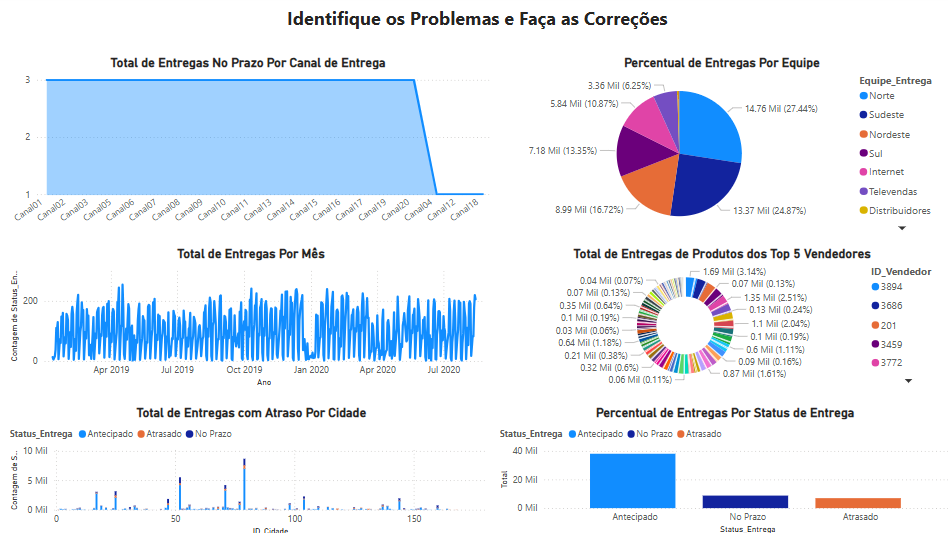

This screenshot's page, from the dashboard's own definition file:
{"tool":"powerbi","page":{"name":"Página 1","canvas":[1280,720],"ordinal":0},"visuals":[{"type":"areaChart","title":"Total de Entregas por Canal de Entrega","fields":{"Category":["Logistica.Canal_Entrega"],"Y":["Medidas.TotalEntregas"]},"box":[12.4,227.1,495.5,256],"z":0},{"type":"clusteredBarChart","title":"Percentual de Entregas por Equipes","fields":{"Category":["Logistica.Equipe_Entrega"],"Y":["Medidas.TotalEntregas"]},"box":[518.9,90.8,456.9,392.3],"z":1000},{"type":"lineChart","title":"Total de Entregas por Mês","fields":{"Category":["Logistica.Data_Pedido.Variation.Hierarquia de datas.Mês"],"Y":["Medidas.TotalEntregas"]},"box":[12.4,492.7,494.1,212],"z":2000},{"type":"tableEx","fields":{"Values":["Logistica.ID_Vendedor","Medidas.TotalEntregas","Medidas.Classificação por estrelas TotalEntregas"]},"box":[985.5,103.2,290.4,165.2],"z":3000},{"type":"tableEx","fields":{"Values":["Logistica.ID_Cidade","Medidas.TotalEntregas"]},"box":[985.5,280.8,290.4,423.9],"z":4000},{"type":"columnChart","title":"Percentual de Entregas por Status","fields":{"Y":["Medidas.TotalEntregas"],"Category":["Logistica.Status_Entrega"]},"box":[518.9,492.7,456.9,212],"z":5000},{"type":"card","title":"Total Entregas","fields":{"Values":["Medidas.TotalEntregas"]},"box":[12.4,90.8,238.1,126.6],"z":6000},{"type":"card","title":"Total Entregas no Prazo","fields":{"Values":["Medidas.TotalEntregasPrazo"]},"box":[260.1,90.8,246.4,126.6],"z":7000},{"type":"textbox","box":[1.5,0,954.9,77.6],"z":8000},{"type":"shape","box":[12.4,45.4,919.4,33],"z":9000},{"type":"slicer","fields":{"Values":["Logistica.Data_Pedido.Variation.Hierarquia de datas.Ano"]},"box":[985.5,0,293.2,90.8],"z":10000}]}

Visuals, with their boxes in screenshot pixels (x1, y1, x2, y2), scaled from the page's 1280x720 canvas onto the 948x533 screenshot:
"Total de Entregas por Canal de Entrega" areaChart: bbox=[9, 168, 376, 358]
"Percentual de Entregas por Equipes" clusteredBarChart: bbox=[384, 67, 723, 358]
"Total de Entregas por Mês" lineChart: bbox=[9, 365, 375, 522]
tableEx - Logistica.ID_Vendedor x Medidas.TotalEntregas: bbox=[730, 76, 945, 199]
tableEx - Logistica.ID_Cidade x Medidas.TotalEntregas: bbox=[730, 208, 945, 522]
"Percentual de Entregas por Status" columnChart: bbox=[384, 365, 723, 522]
"Total Entregas" card: bbox=[9, 67, 186, 161]
"Total Entregas no Prazo" card: bbox=[193, 67, 375, 161]
textbox: bbox=[1, 0, 708, 57]
shape: bbox=[9, 34, 690, 58]
slicer - Logistica.Data_Pedido.Variation.Hierarquia de datas.Ano: bbox=[730, 0, 947, 67]
